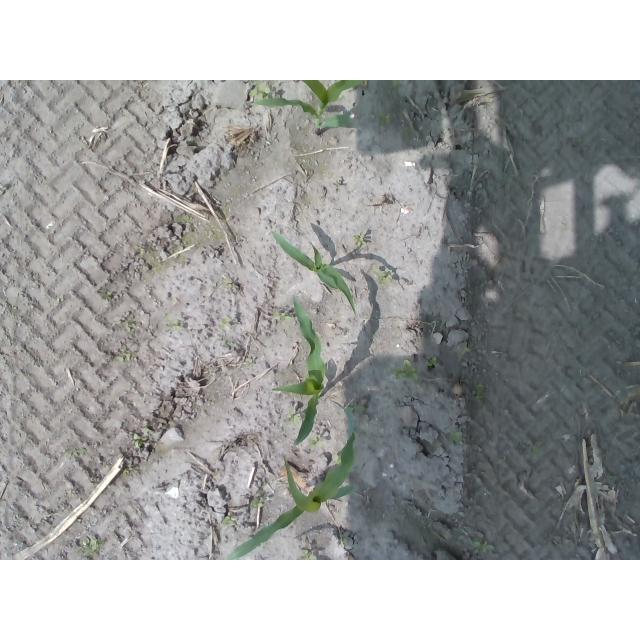Maize: (226, 408, 359, 561), (270, 296, 328, 447), (269, 229, 357, 316), (253, 80, 363, 136)
Weeds: (390, 357, 418, 382), (370, 267, 392, 288), (472, 539, 496, 553), (251, 81, 272, 96), (448, 430, 464, 446), (83, 538, 98, 554), (474, 384, 486, 401), (379, 111, 393, 125), (132, 432, 142, 448), (427, 356, 440, 368), (352, 234, 364, 247), (273, 312, 292, 320), (223, 515, 238, 525), (290, 413, 303, 424), (102, 290, 112, 303), (309, 437, 320, 448), (354, 403, 366, 413), (115, 354, 130, 362), (461, 343, 472, 352), (304, 549, 312, 560), (390, 81, 402, 88), (171, 320, 181, 328)
